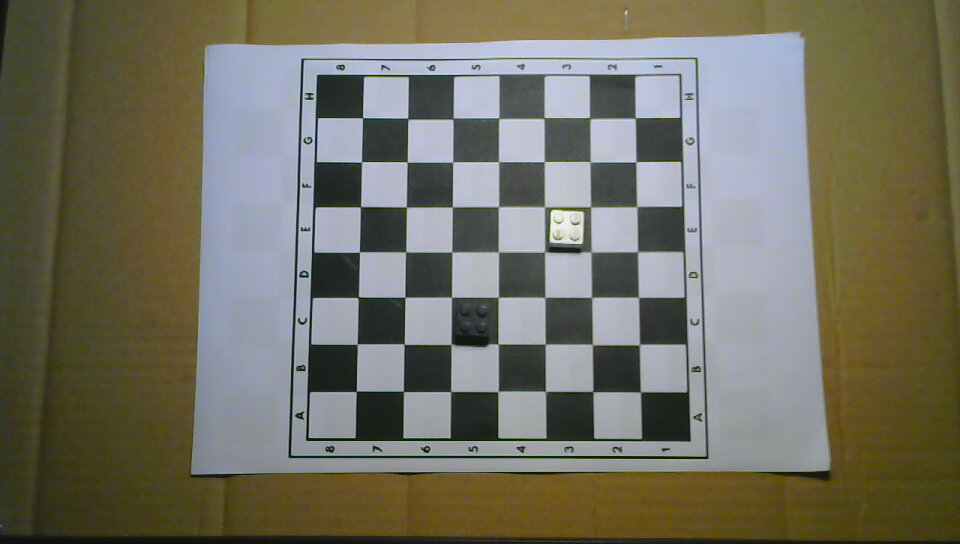bp: (453, 299, 491, 342)
wp: (548, 208, 585, 248)
